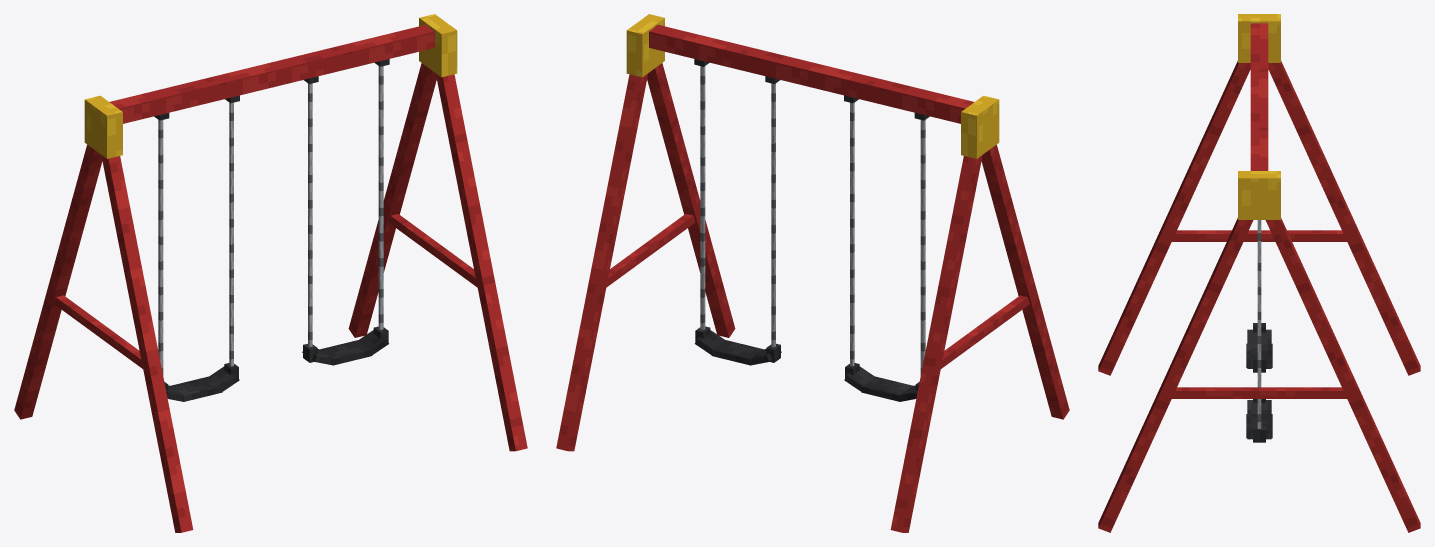
The model's file is swing_belt_set.obj.
3 renders of one model, left to right at view 1: azimuth 30°, elevation 25°; view 2: azimuth 150°, elevation 25°; view 3: azimuth 270°, elevation 25°, orthographic. The views are drawn at different scales.
Visible parts, largest first — view 1: swing_belt_set; view 2: swing_belt_set; view 3: swing_belt_set.
Part boxes in pixels (x1=…): swing_belt_set: x1=14, y1=14, x2=527, y2=532; swing_belt_set: x1=556, y1=14, x2=1069, y2=532; swing_belt_set: x1=1098, y1=14, x2=1420, y2=532.
Size of the model in its own units: 2.78 by 2.8 by 2.3.
